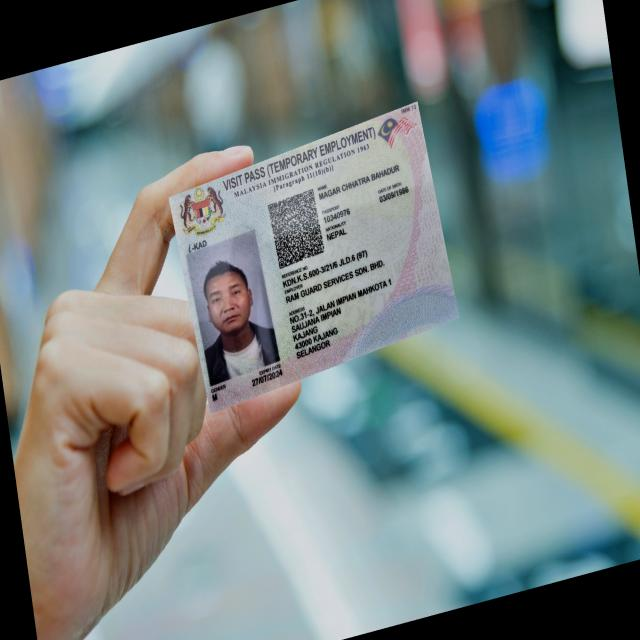ikad-temp: (168, 100, 460, 416)
